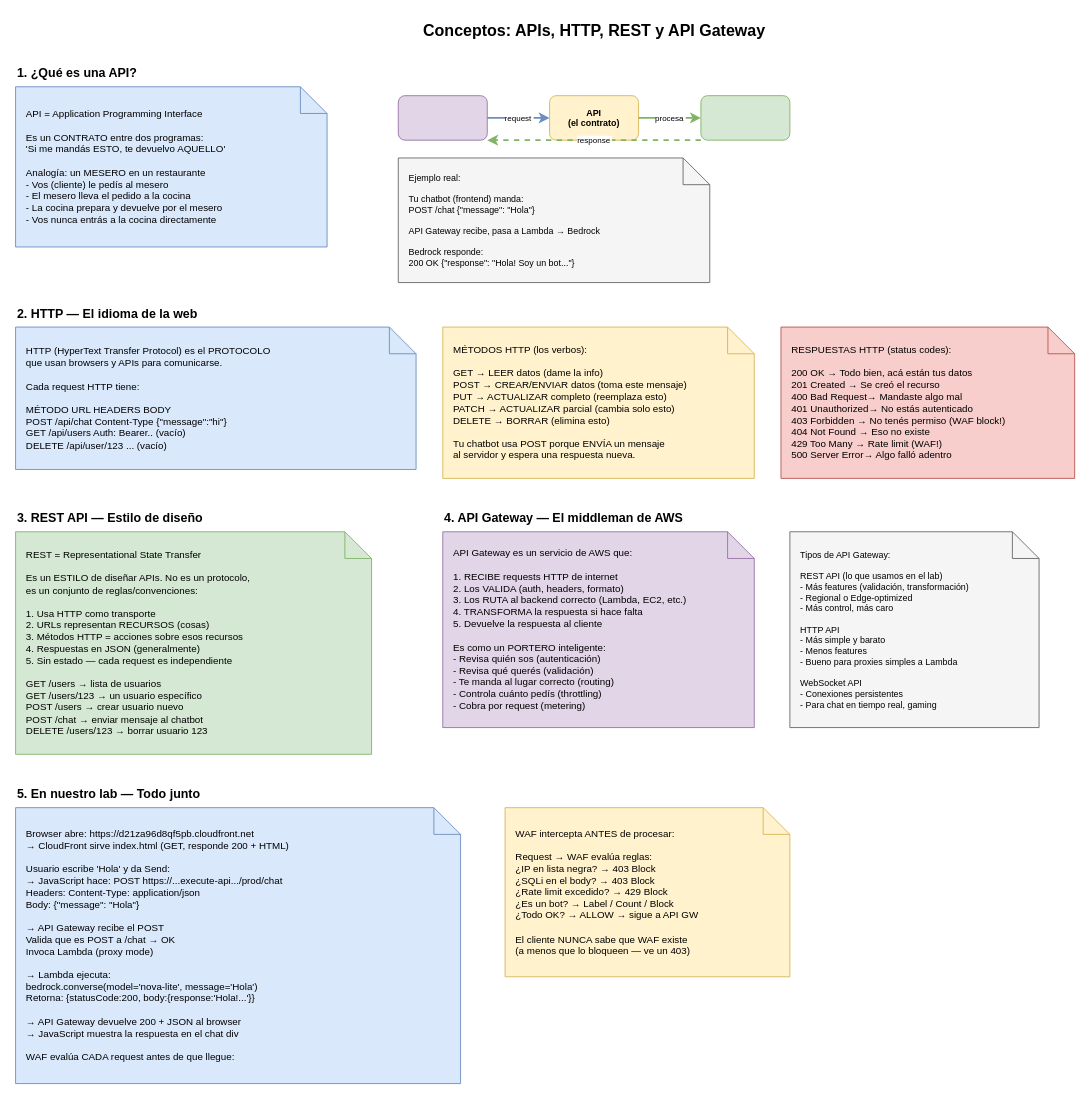
Some shapes in this 1090 by 1099 pixel diagram are drawn without their labels. Here are the shapes that lost their labels. From the top down, the centre of each, then its label:
At [442,117]: "Tu App (frontend)".
At [745,117]: "Servidor (la cocina)".
